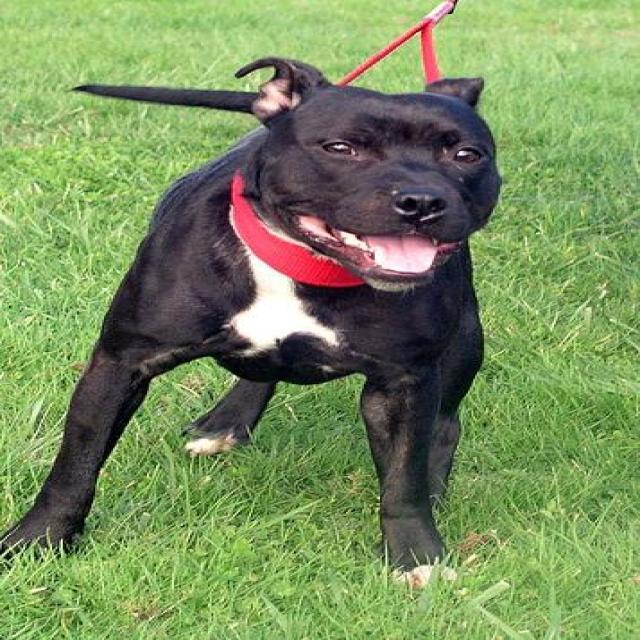staffordshire_bullterrier: (0, 55, 500, 586)
